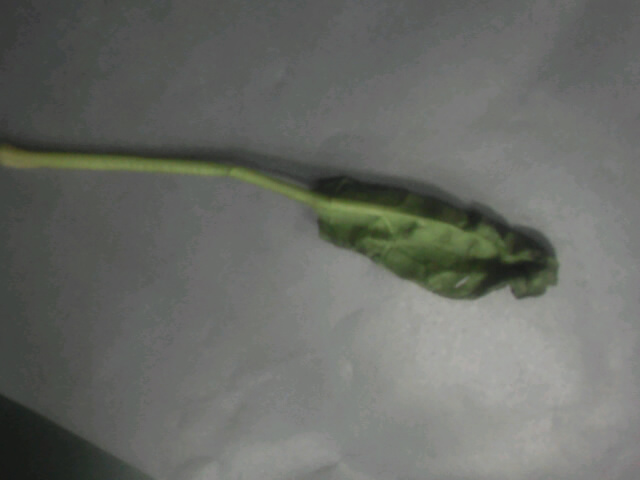yellow: (231, 148, 569, 313)
